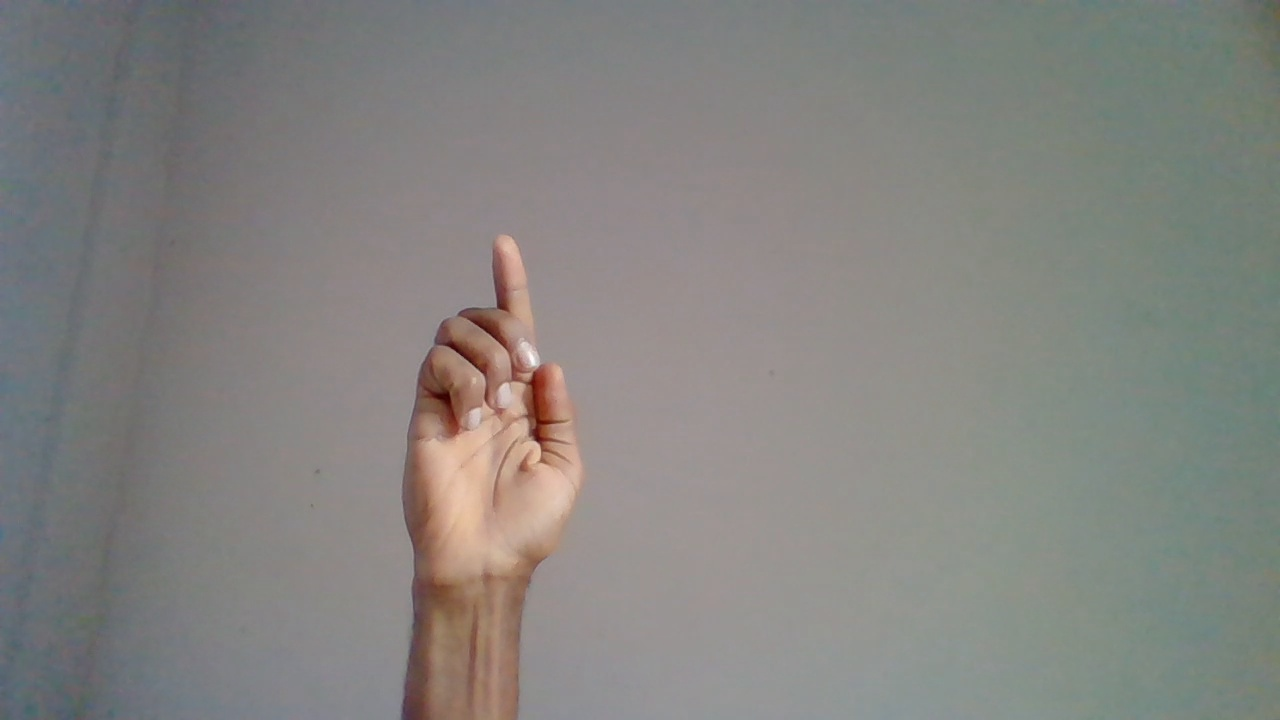qe: (398, 238, 585, 672)
